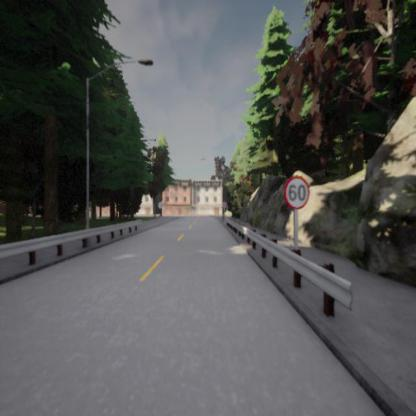traffic_sign_60: (284, 175, 310, 210)
